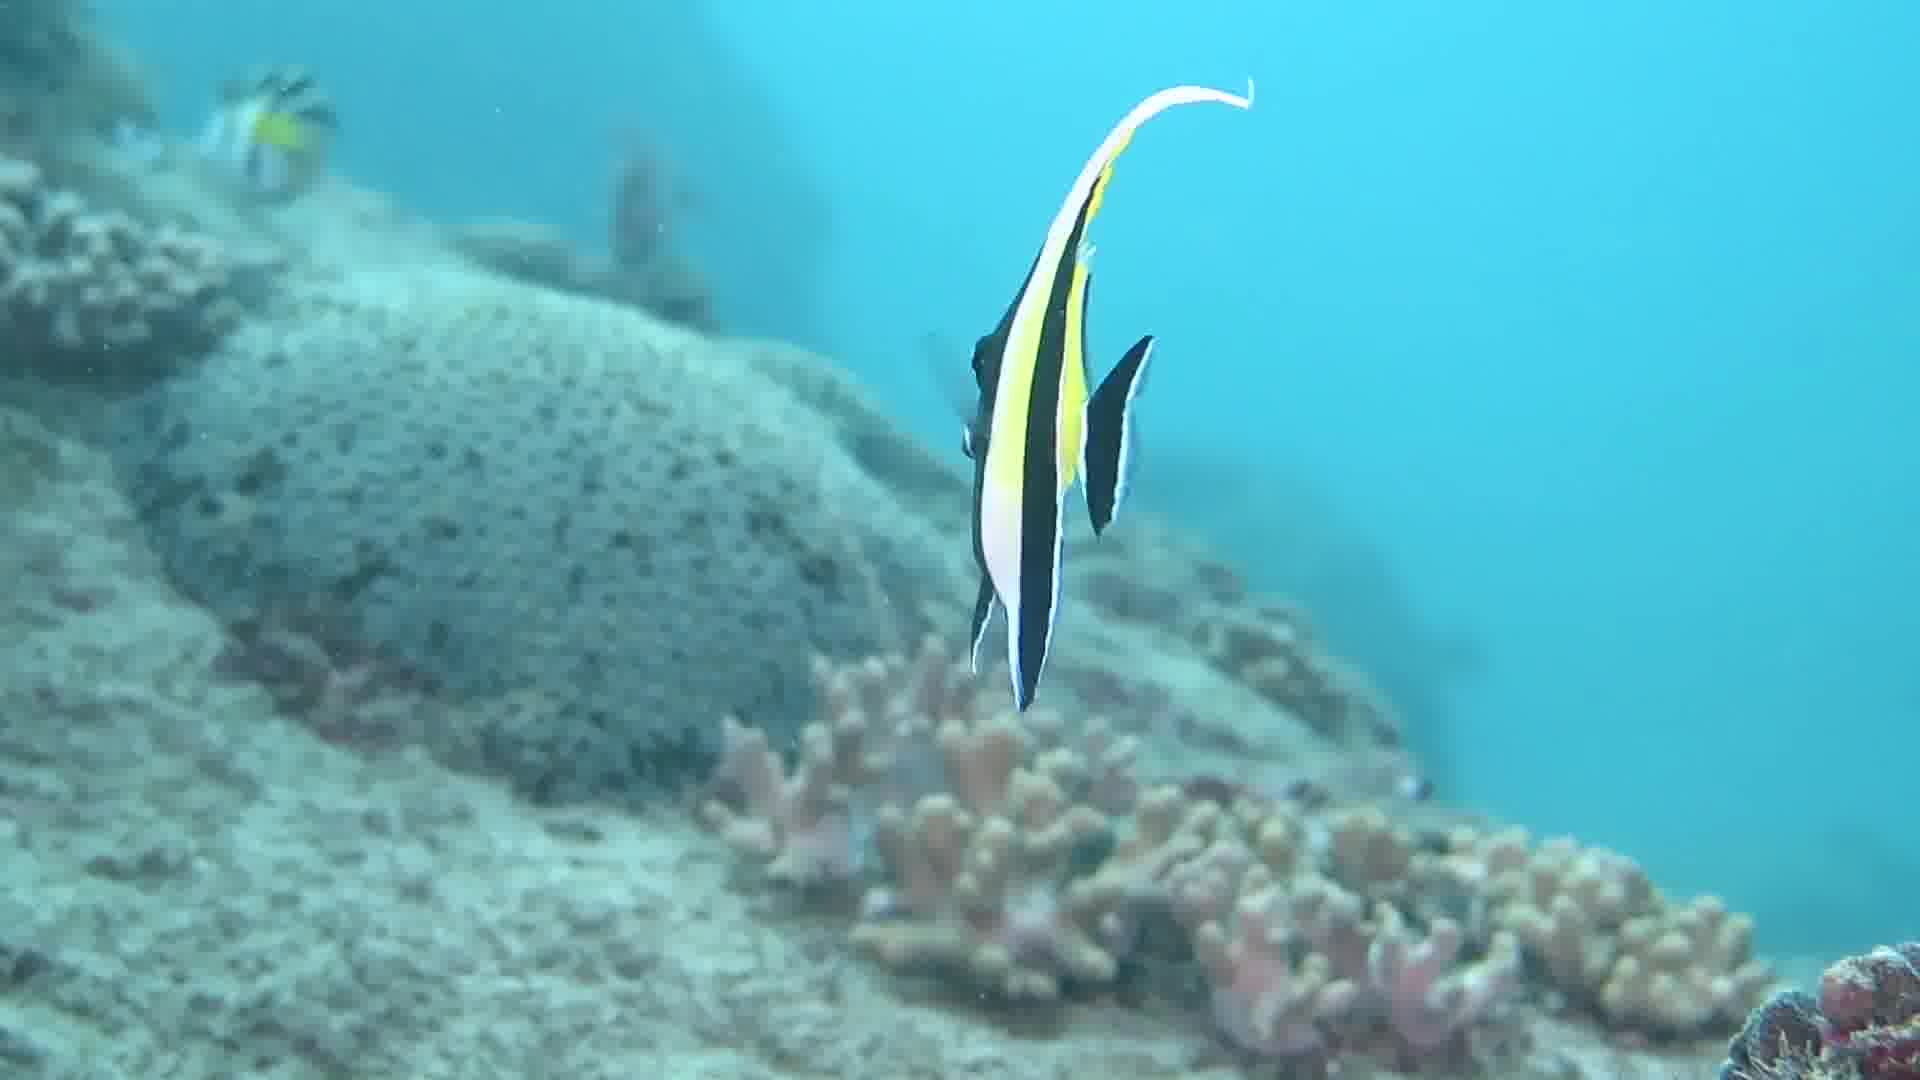Zanclus cornutus: (884, 1, 1247, 742)
